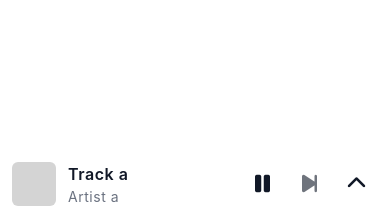
Test: PlayerBar › expanded layout can be toggled on mobile
Click the button named "Expand player" at (356, 184), box [335, 165, 378, 203]
(page scrolled)
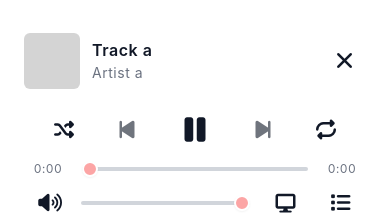
Now the element showing "Track a Artist a 0:00 0:00" is shown
